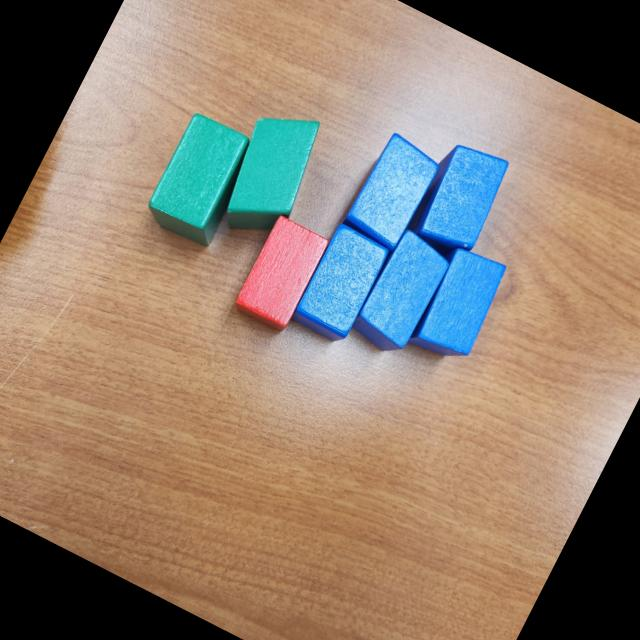blue: (399, 129, 518, 266), (345, 225, 457, 362), (404, 241, 514, 373), (338, 129, 446, 256), (287, 220, 394, 348)
green: (205, 94, 334, 252), (138, 109, 262, 252)
red: (227, 208, 336, 337)
